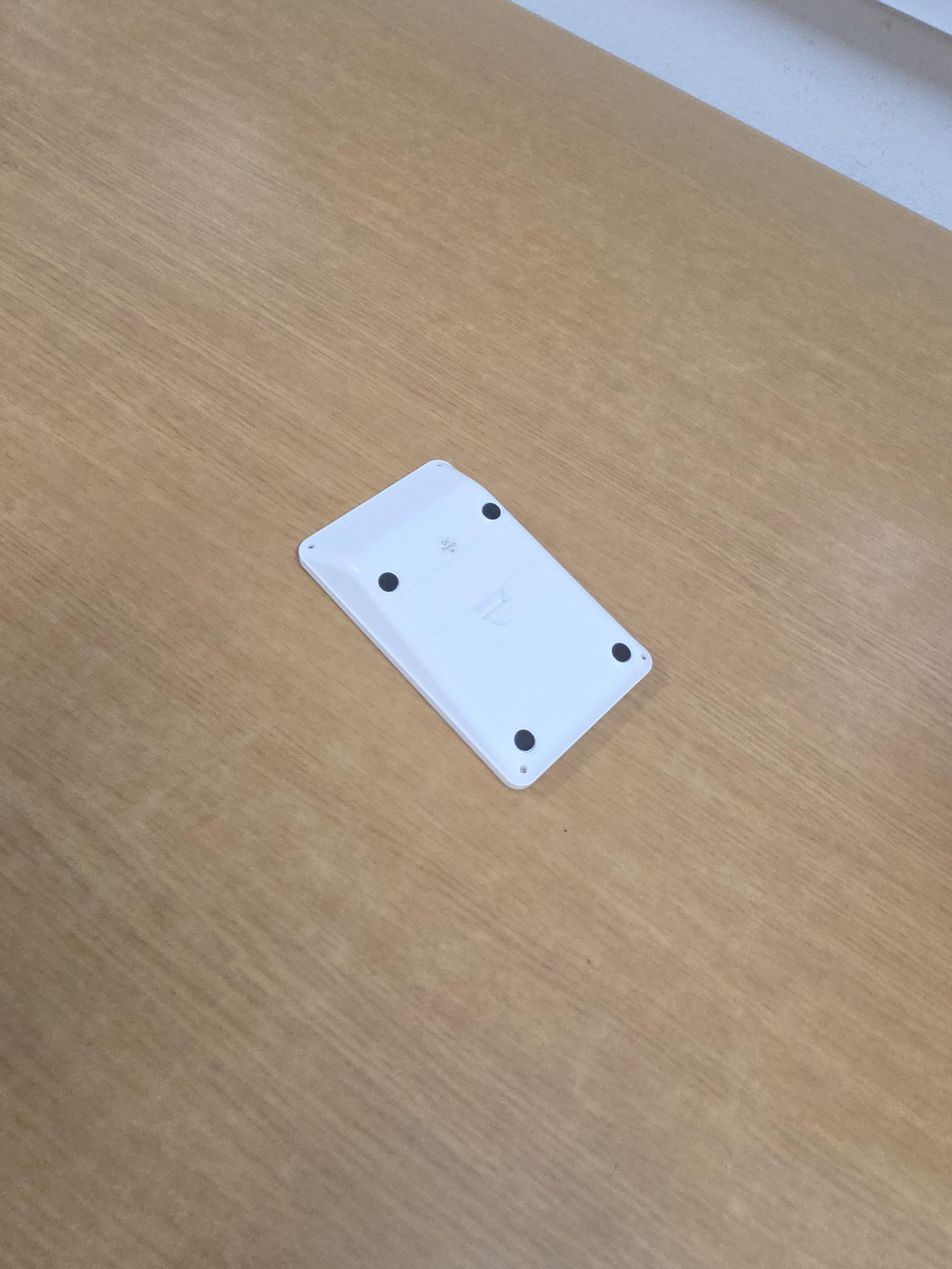calculator: (298, 459, 653, 791)
